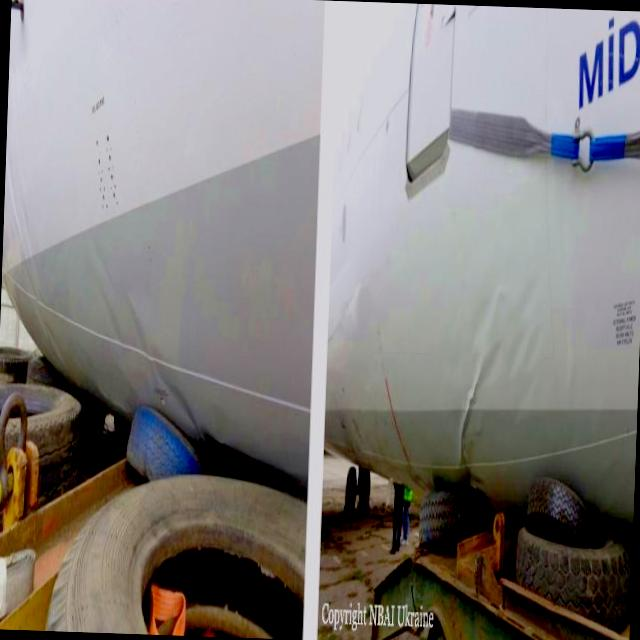dent: (63, 216, 215, 461), (458, 272, 543, 503)
